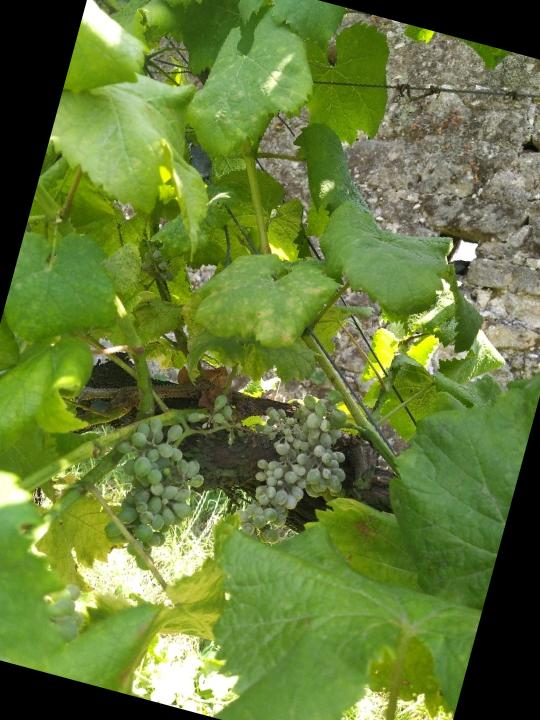grape: (231, 385, 368, 557), (84, 407, 218, 582)
